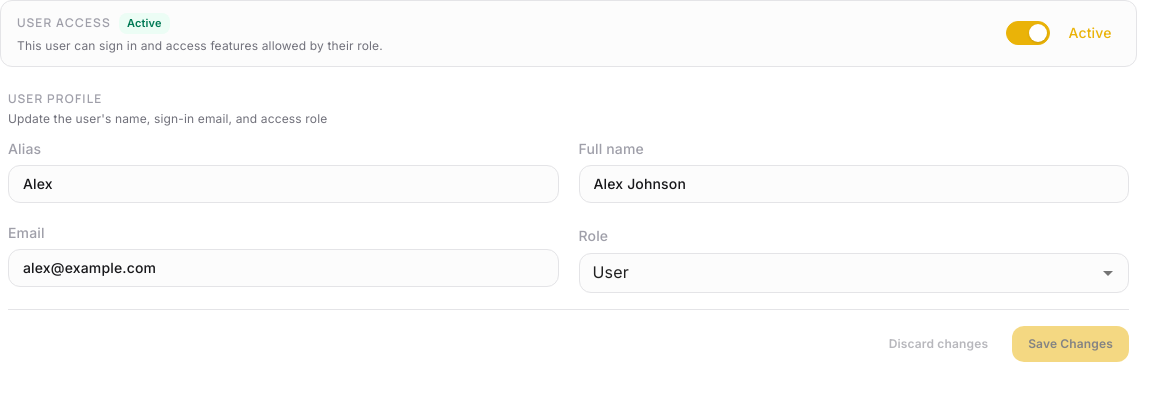
EditUserForm › shows validation errors and does not submit invalid data
Clear the field labelled "Alias" at (283, 184), box [8, 164, 558, 202]
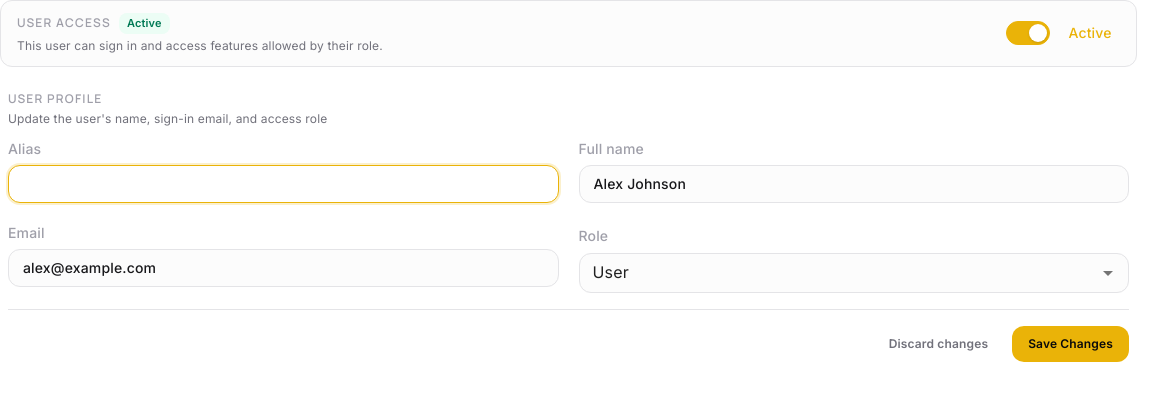
Click the button "Save Changes" at (1071, 344), box [1012, 326, 1129, 362]
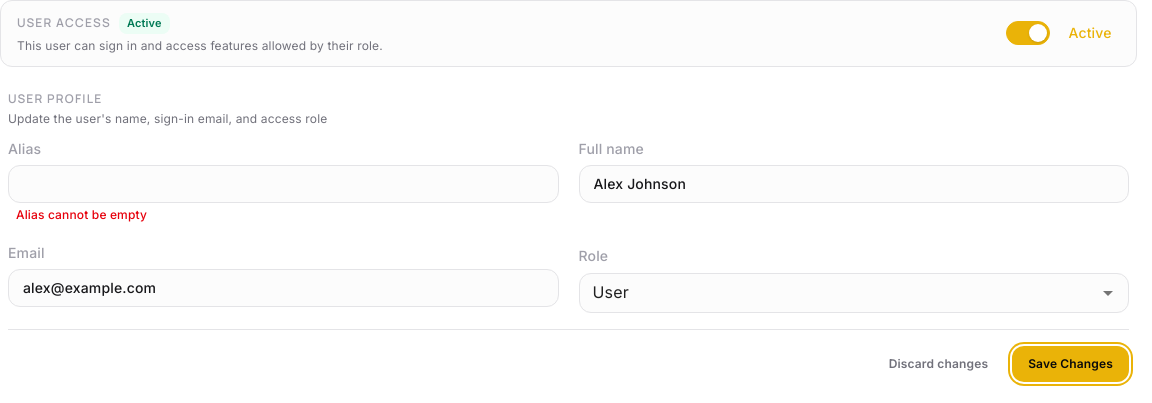
Check: the message reads "Alias cannot be empty", box [16, 206, 147, 222]
